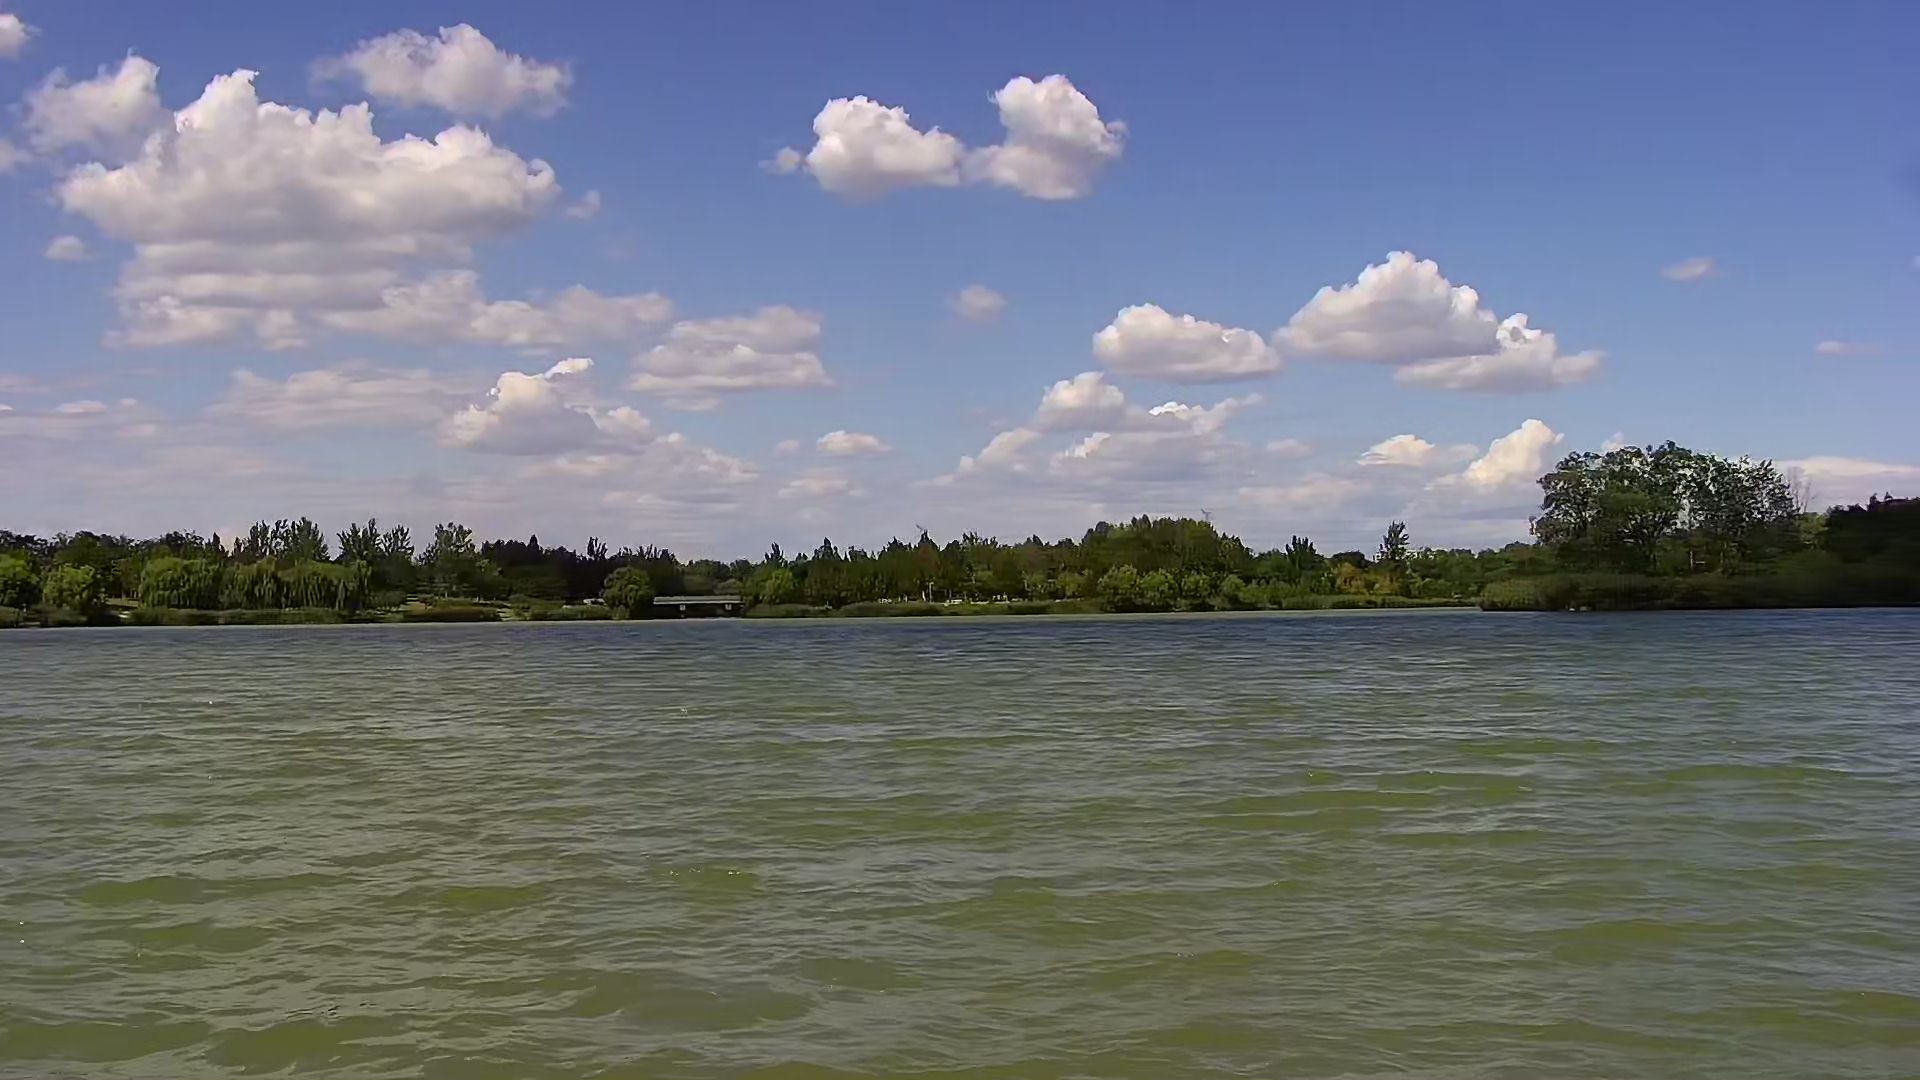bridge: (651, 589, 749, 625)
